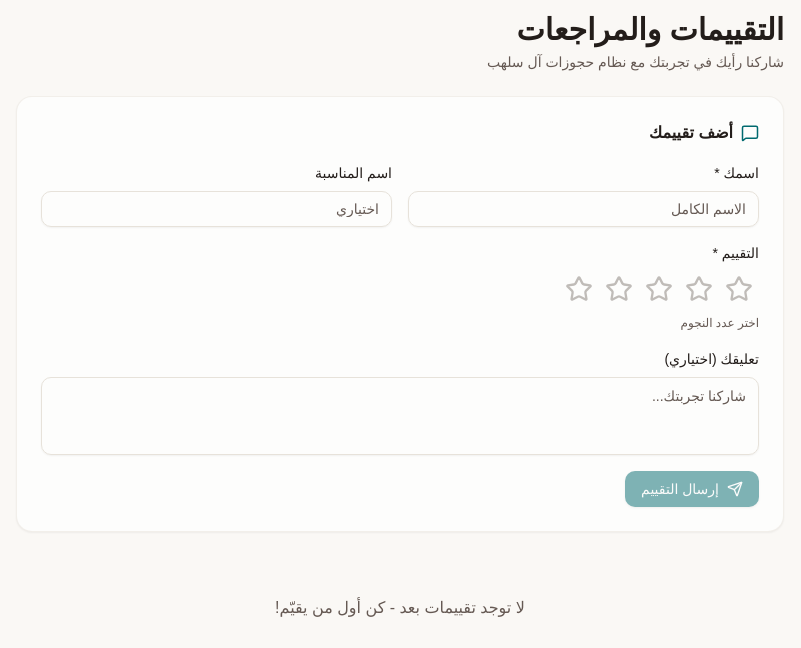
Test: ReviewsPage › reports a failed submission
The width and height of the screenshot is (801, 648).
Expected: the text "لا توجد تقييمات بعد - كن أول من يقيّم!" is shown, x1=275 y1=599 x2=525 y2=616
Type "منى" into the field labelled "اسمك *".
click(584, 209); type("منى")  # box x1=408 y1=191 x2=759 y2=227
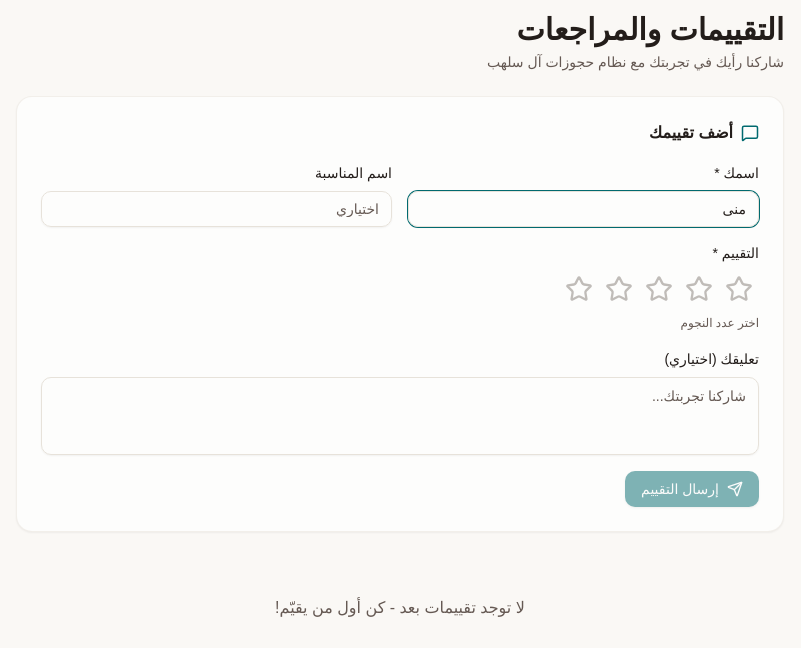
Click the button named "5 من 5".
click(579, 289)  # box x1=559 y1=269 x2=599 y2=309
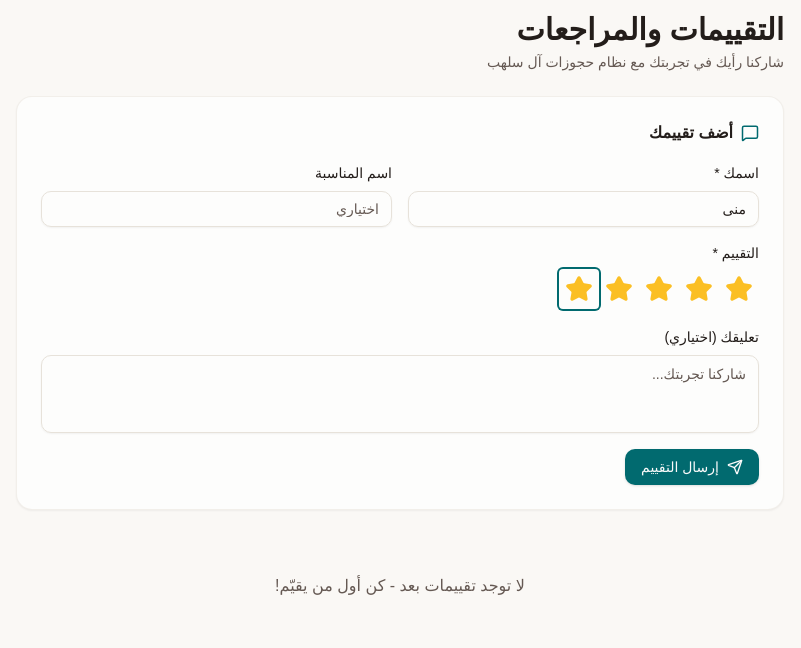
Click the button "إرسال التقييم".
click(692, 467)  # box x1=625 y1=449 x2=759 y2=485
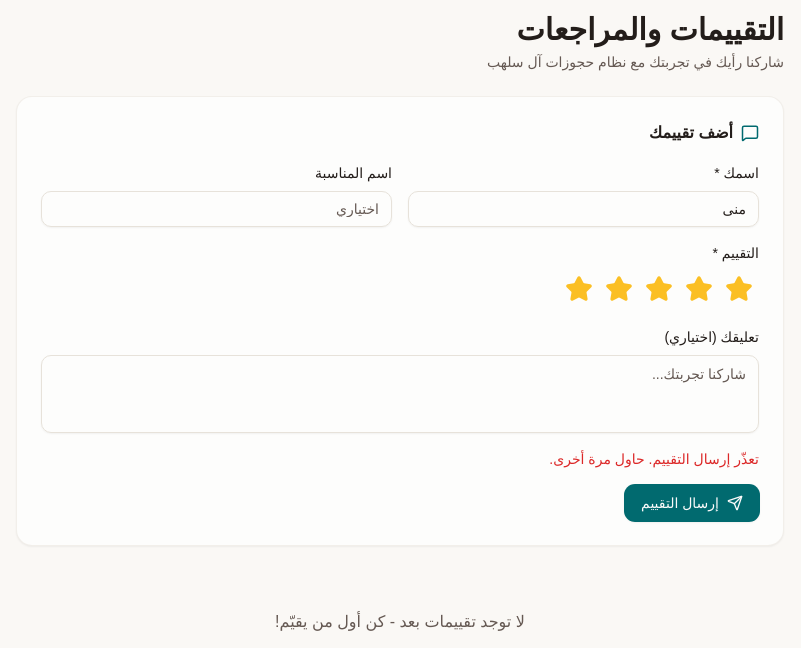
Expected: the text "تعذّر إرسال التقييم. حاول مرة أخرى." is shown, x1=549 y1=451 x2=759 y2=467
